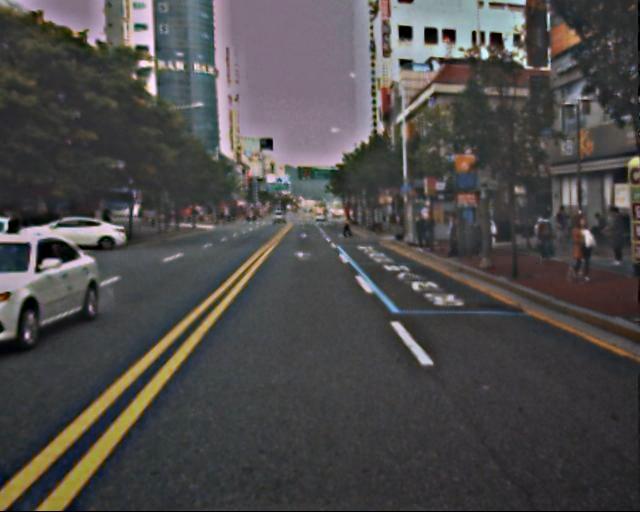person: (566, 216, 594, 284), (603, 205, 628, 267), (532, 211, 555, 266), (442, 213, 461, 259), (414, 214, 428, 249), (592, 209, 605, 235), (555, 206, 569, 228), (341, 210, 352, 237)
